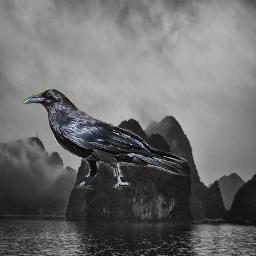Crow: (23, 88, 192, 191)
